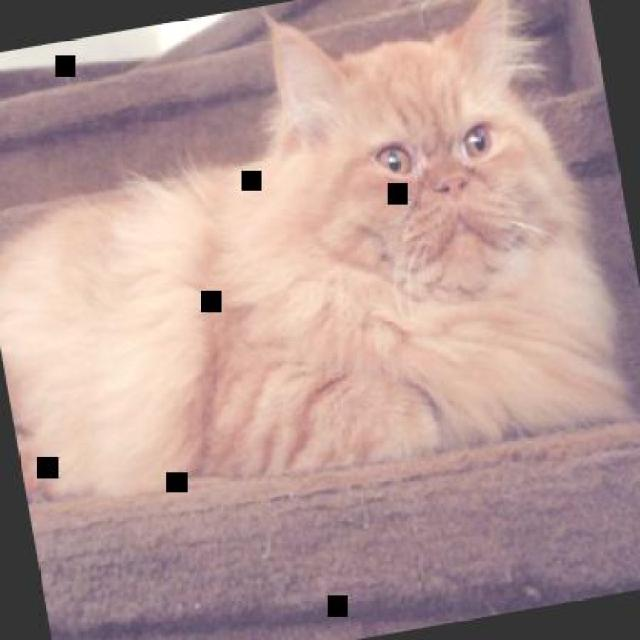cat: (0, 0, 620, 522)
